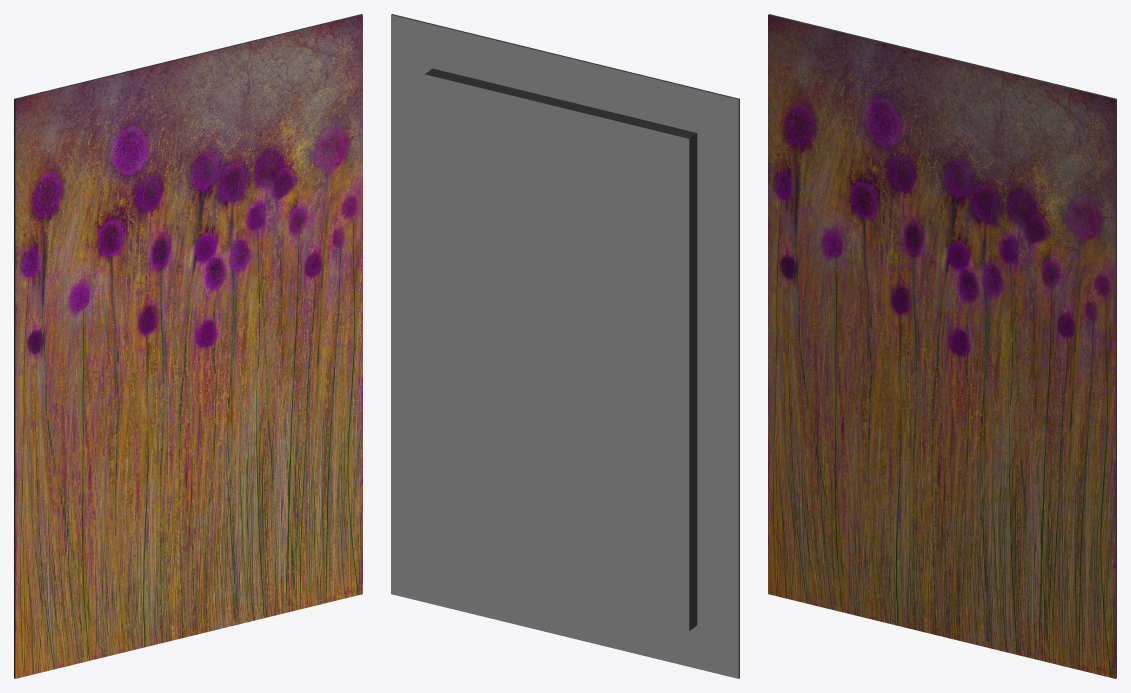
Rendered from os034_moyen_dibond.glb.
The picture shows the model from 3 angles, left to right: view 1: azimuth 30°, elevation 25°; view 2: azimuth 150°, elevation 25°; view 3: azimuth 330°, elevation 25°; orthographic projection.
Parts seen in each view (by area): view 1: os034_moyen_dibond; view 2: os034_moyen_dibond; view 3: os034_moyen_dibond.
Boxes of the visible parts, x1,y1,x2,y2 form: os034_moyen_dibond: (14, 14, 362, 678); os034_moyen_dibond: (391, 14, 739, 678); os034_moyen_dibond: (768, 14, 1116, 678).
Bounding box in the file's own units: 0.5024 × 0.8 × 0.023.
4 materials, 1 textured.
